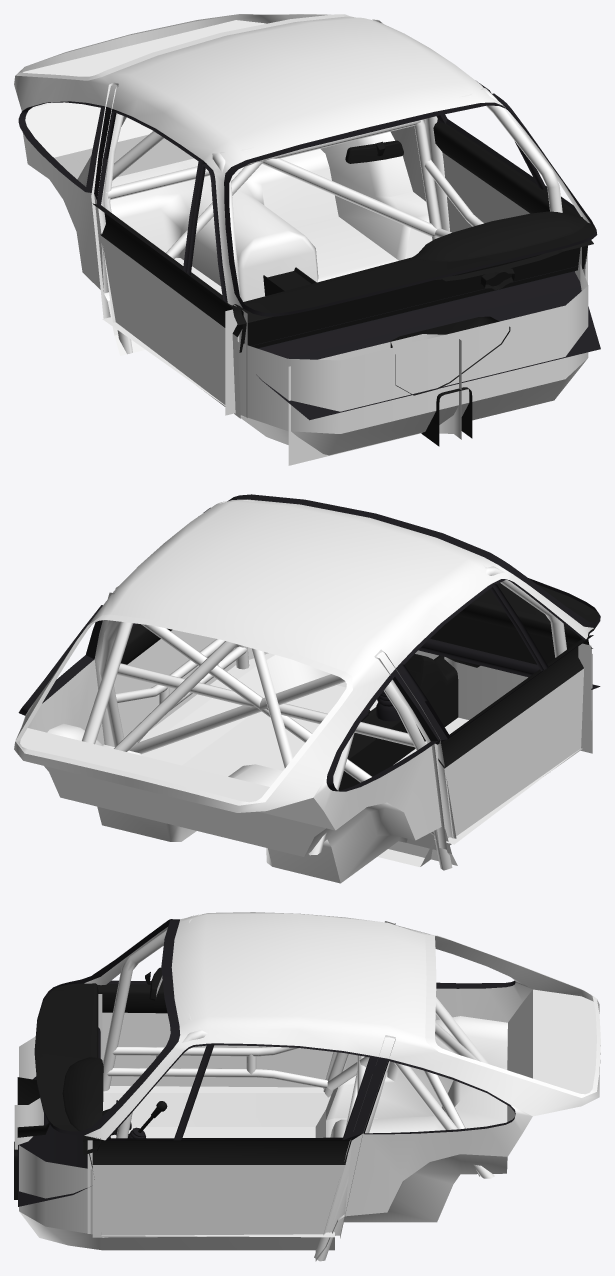
Rendered from RWB_Inside_Trim.fbx.
3 views of the same model, one above another, from view 1: azimuth 30°, elevation 25°; view 2: azimuth 150°, elevation 25°; view 3: azimuth 270°, elevation 25° (orthographic). The views are drawn at different scales.
Visible parts, largest first — view 1: RWB_Inside_Trim; view 2: RWB_Inside_Trim; view 3: RWB_Inside_Trim.
Boxes of the visible parts, <box> form: RWB_Inside_Trim: <box>14,14,600,465</box>; RWB_Inside_Trim: <box>14,494,600,883</box>; RWB_Inside_Trim: <box>14,912,600,1261</box>.
Bounding box in the file's own units: 136 × 94.56 × 212.
